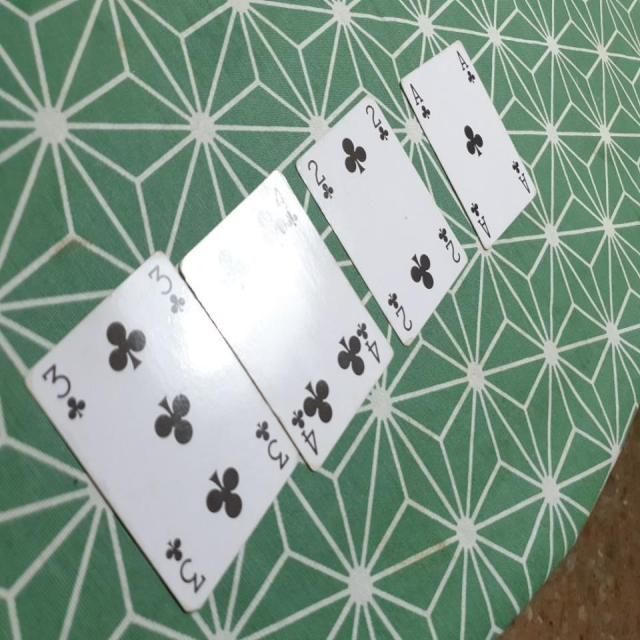2 Trefoils: (293, 94, 468, 348)
3 Trefoils: (24, 248, 299, 615)
4 Trefoils: (179, 169, 396, 473)
A Trefoils: (396, 33, 540, 252)
